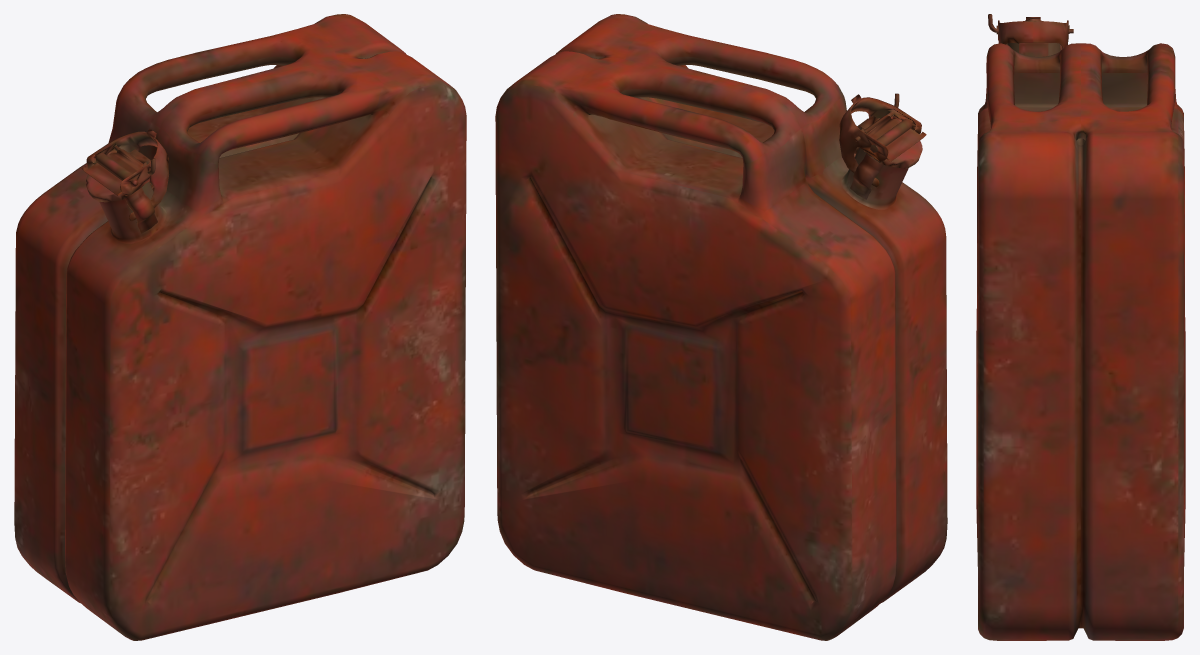
The model's file is prop-jerrycan.glb.
The picture shows the model from 3 angles, left to right: view 1: azimuth 30°, elevation 25°; view 2: azimuth 150°, elevation 25°; view 3: azimuth 270°, elevation 25°; orthographic projection. The views are drawn at different scales.
Visible parts, largest first — view 1: prop-jerrycan; view 2: prop-jerrycan; view 3: prop-jerrycan.
Boxes of the visible parts, x1,y1,x2,y2 form: prop-jerrycan: [14, 14, 466, 640]; prop-jerrycan: [495, 14, 947, 640]; prop-jerrycan: [976, 14, 1185, 640].
Size of the model in its own units: 0.3501 by 0.4548 by 0.1717.
1 material, 1 textured.
